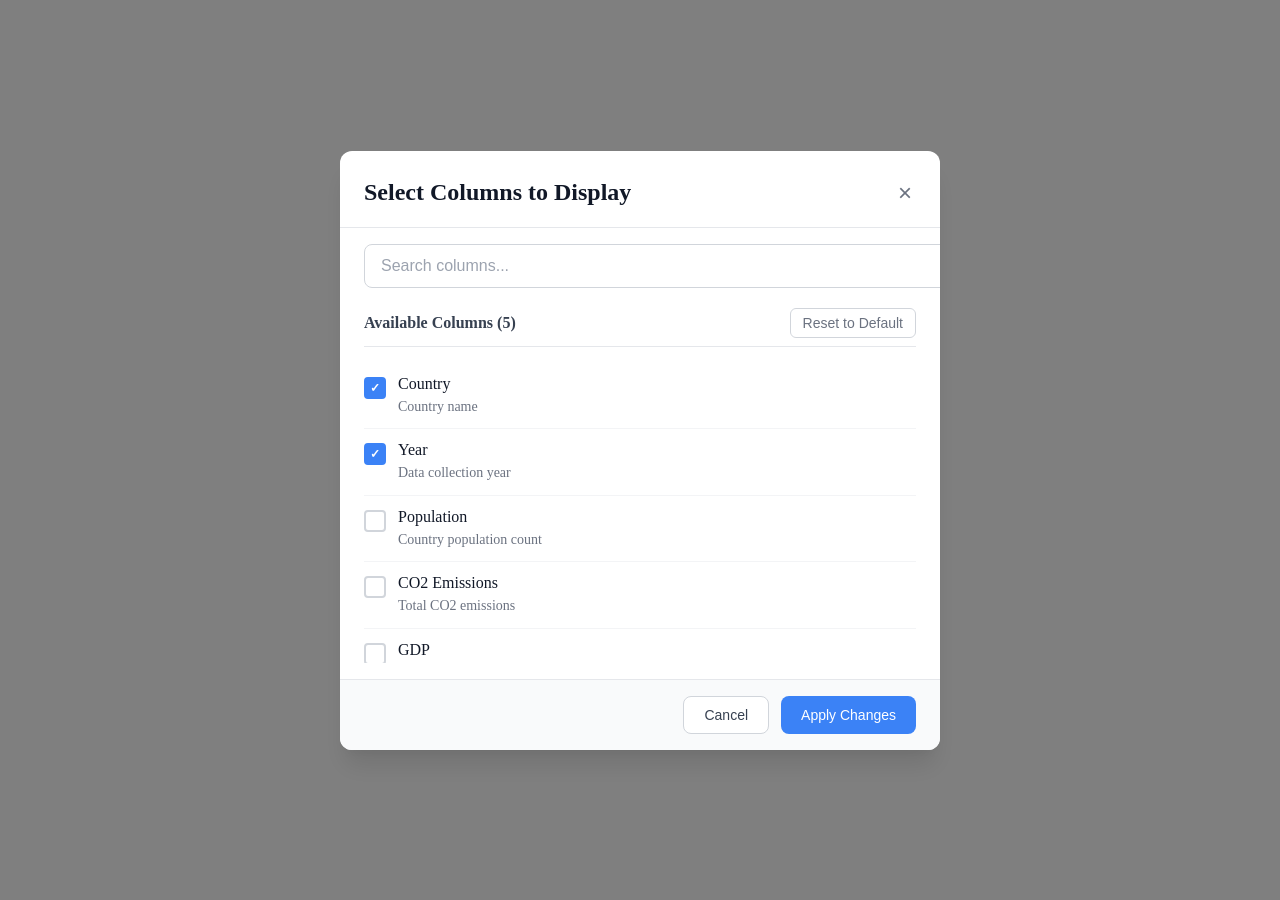
Test: ColumnSelectorModal › searches in both label and description
Step 1. Type "emissions" into the field with placeholder "Search columns..." → (657, 266), box [364,244,950,288]
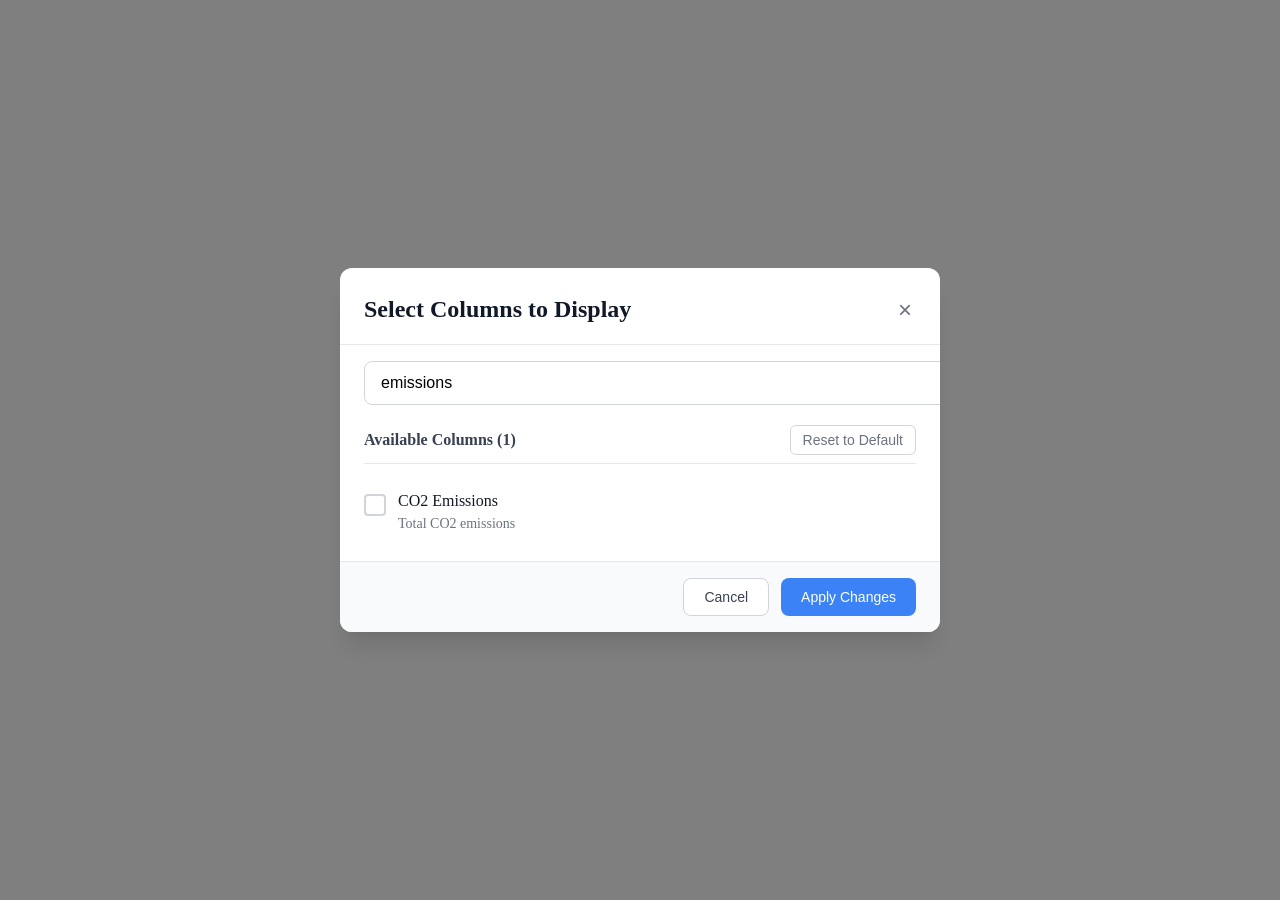
Expected: the text "CO2 Emissions" is shown, [398,492,498,509]
Now the text "Available Columns (1)" is shown, box [364,431,516,449]
